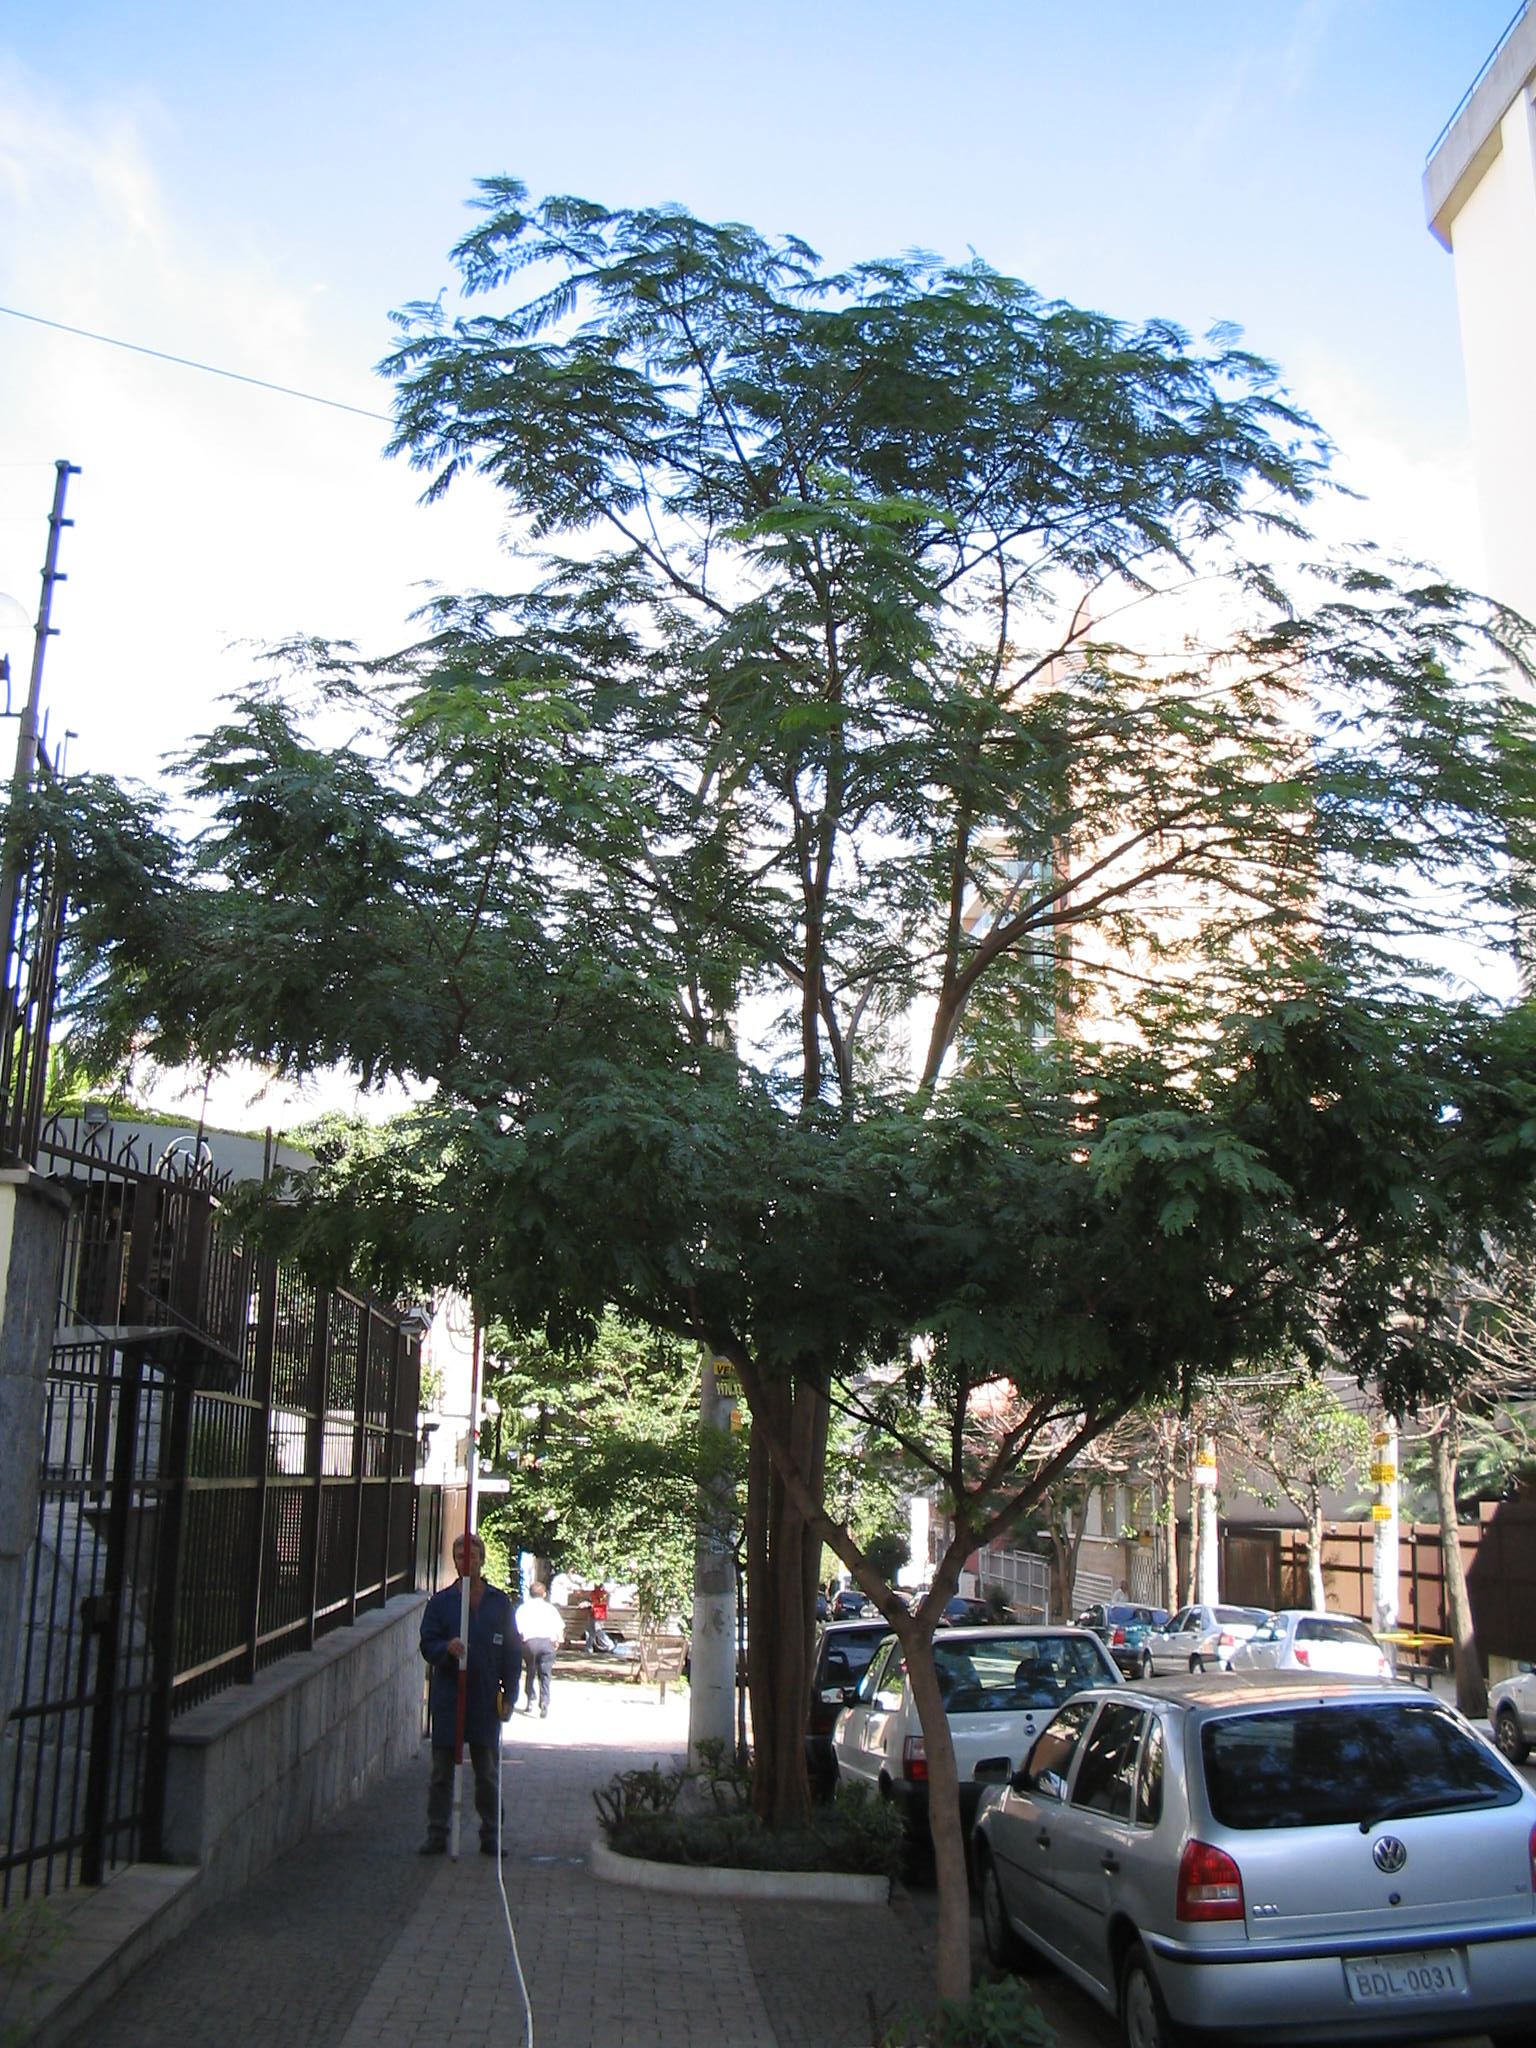stem: (865, 1656, 1026, 2042), (721, 1492, 865, 1830)
stick: (437, 1327, 500, 1859)
